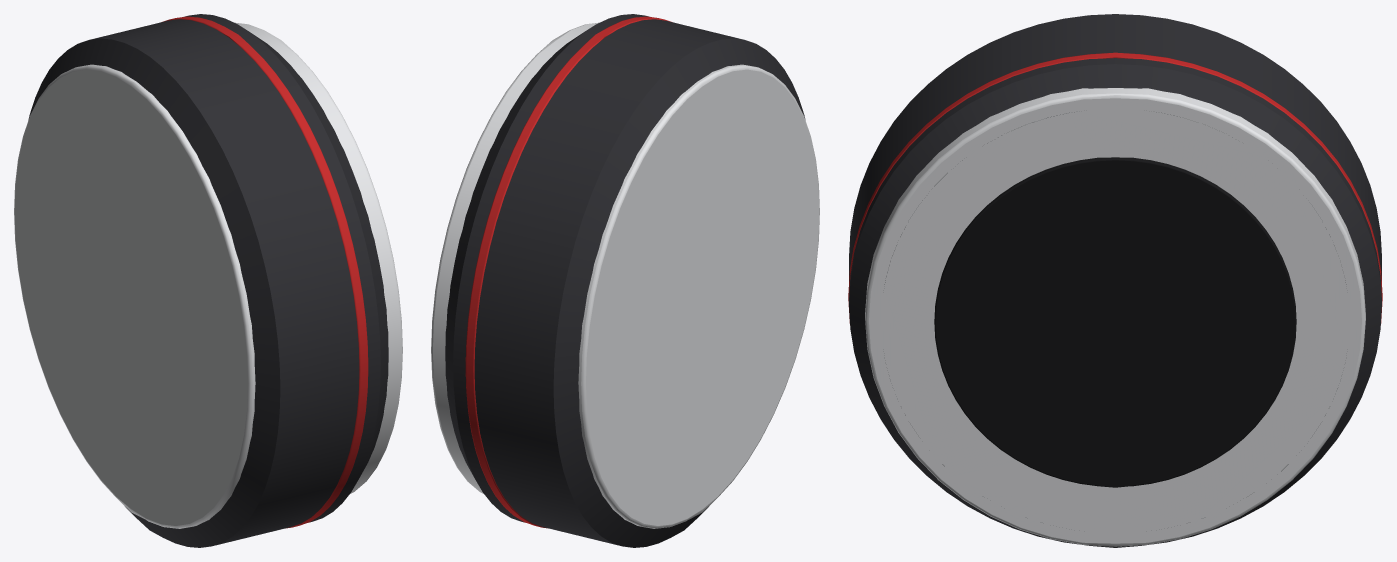
The model's file is sigma_mc21.glb.
3 renders of one model, left to right at view 1: azimuth 30°, elevation 25°; view 2: azimuth 150°, elevation 25°; view 3: azimuth 270°, elevation 25°, orthographic. The views are drawn at different scales.
Parts seen in each view (by area): view 1: Sigma MC-21; view 2: Sigma MC-21; view 3: Sigma MC-21.
Part boxes in pixels (x1,y1,x2,y2): Sigma MC-21: (14, 14, 402, 547); Sigma MC-21: (431, 14, 819, 547); Sigma MC-21: (848, 14, 1382, 547).
Bounding box in the file's own units: 0.0249 × 0.0723 × 0.0722.
